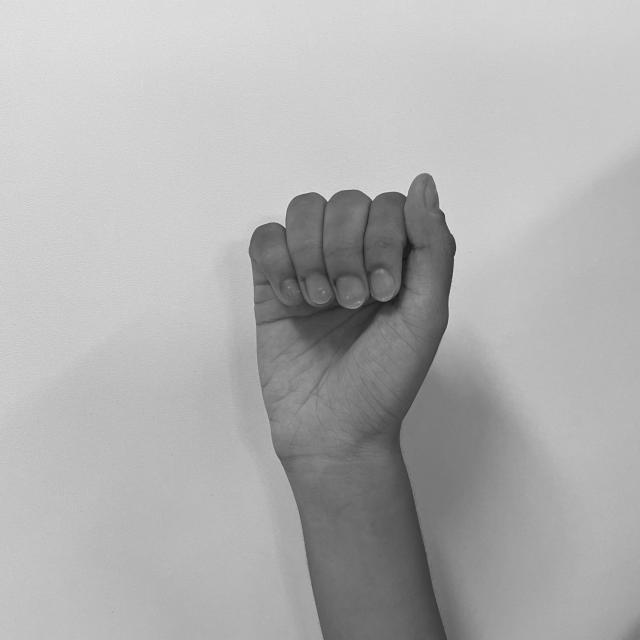Letra A: (243, 166, 462, 464)
